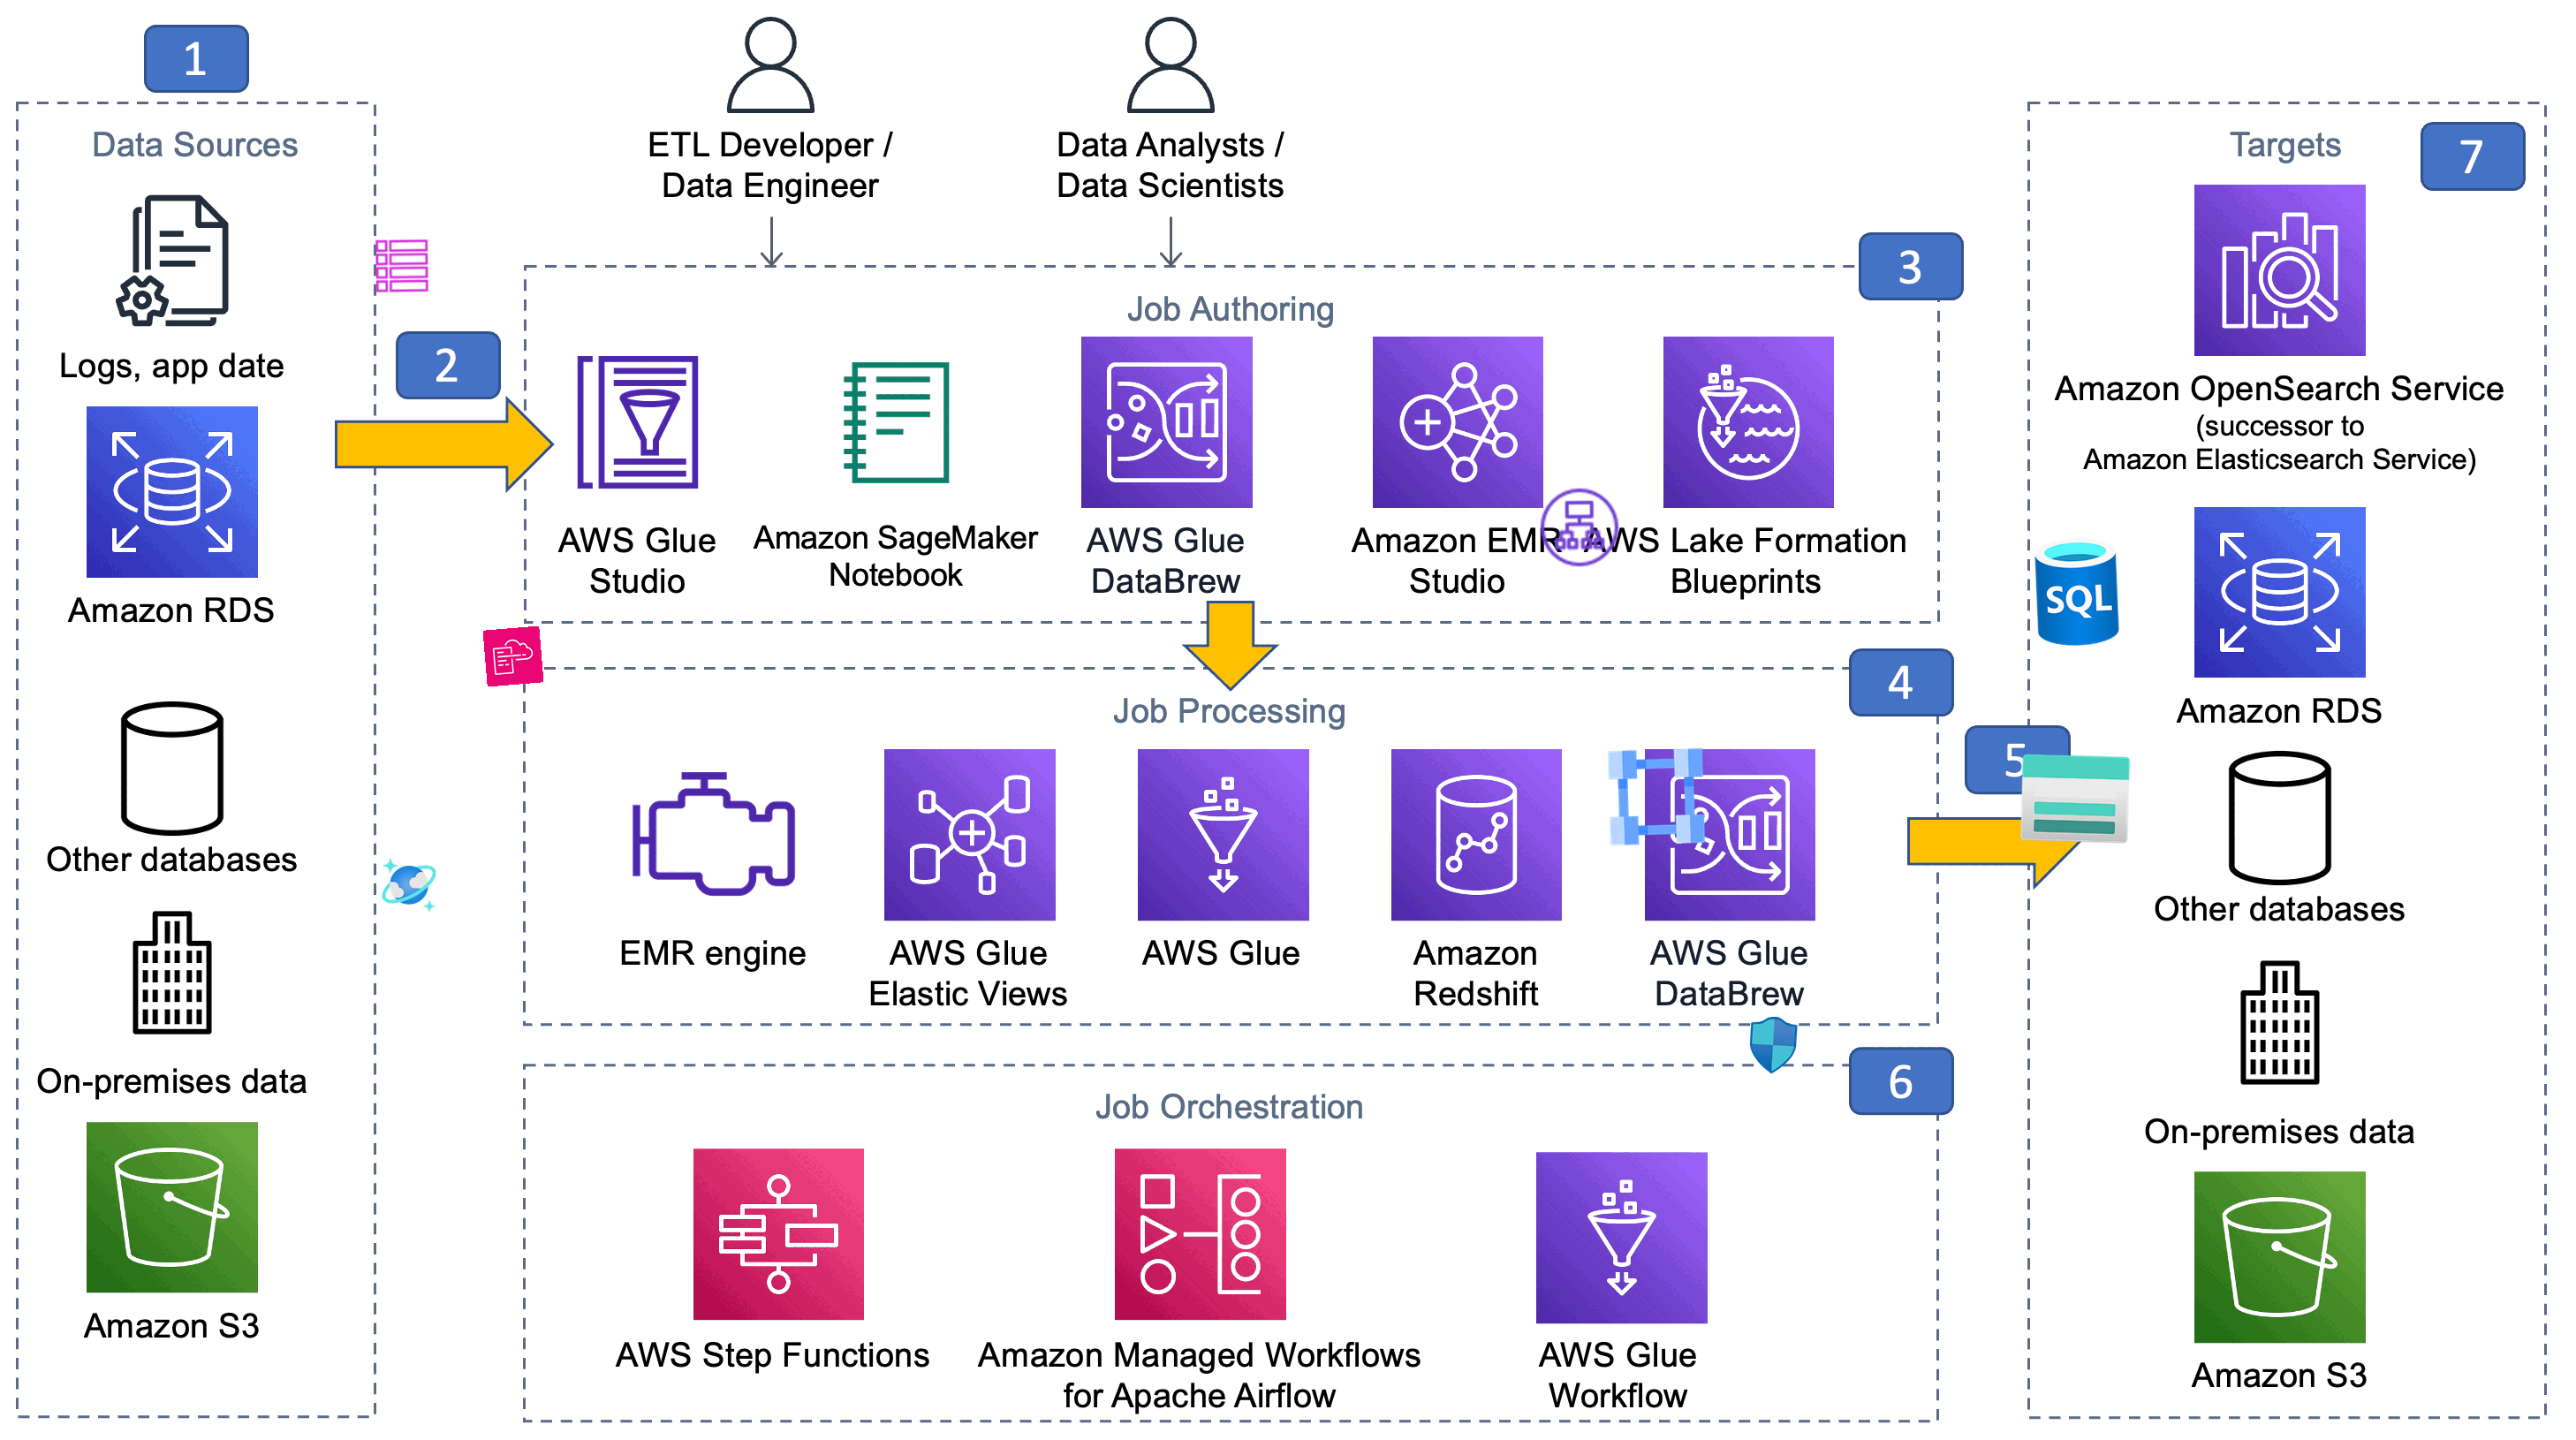aws_cloudformation: (483, 626, 545, 688)
aws_dynamodb_table: (373, 237, 432, 295)
aws_elastic_load_balancing_application_load_balancer: (1536, 485, 1622, 571)
azure_cosmos_db: (380, 856, 439, 915)
azure_network_security_groups: (1743, 1015, 1803, 1076)
azure_sql_database: (2017, 532, 2135, 651)
azure_storage_accounts: (2017, 739, 2134, 856)
gcp_virtual_private_cloud: (1598, 738, 1714, 854)
